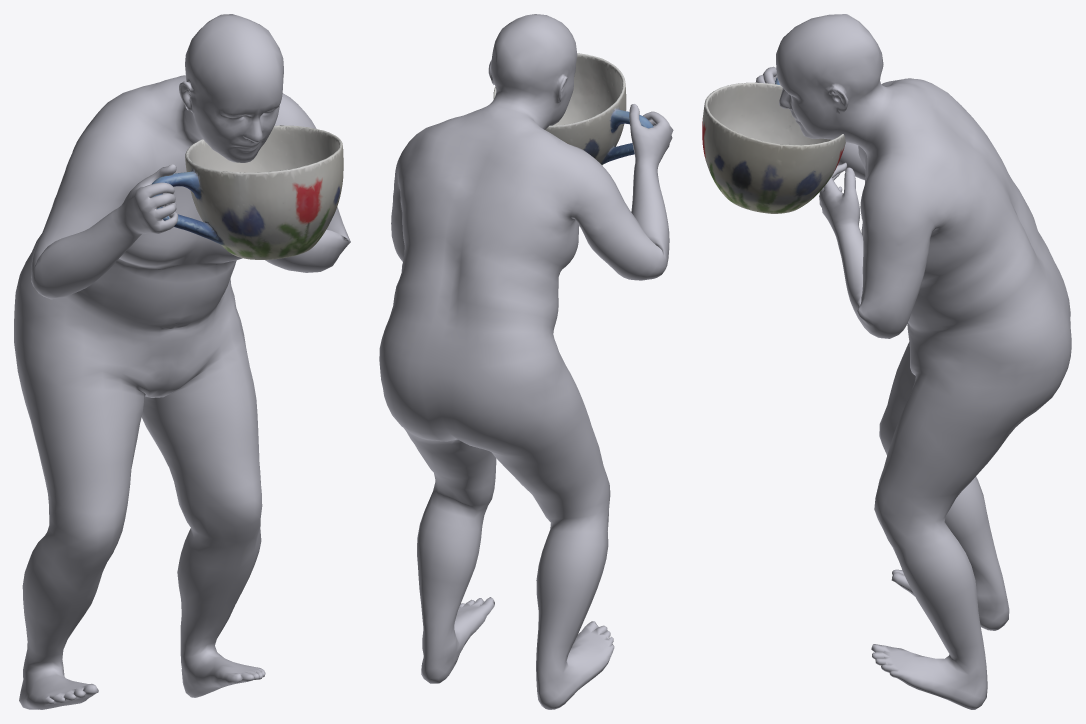
The model's file is cup.glb.
3 views of the same model, side by side, from view 1: azimuth 30°, elevation 25°; view 2: azimuth 150°, elevation 25°; view 3: azimuth 270°, elevation 25° (orthographic). The views are drawn at different scales.
Parts seen in each view (by area): view 1: human, world; view 2: human, world; view 3: human, world.
Part boxes in pixels (x1,y1,x2,y2): human: (14, 14, 350, 709); world: (151, 125, 343, 259); human: (379, 14, 673, 709); world: (493, 53, 653, 165); human: (756, 14, 1071, 709); world: (702, 77, 845, 213).
Bounding box in the file's own units: 0.6424 × 1.45 × 0.7221.
